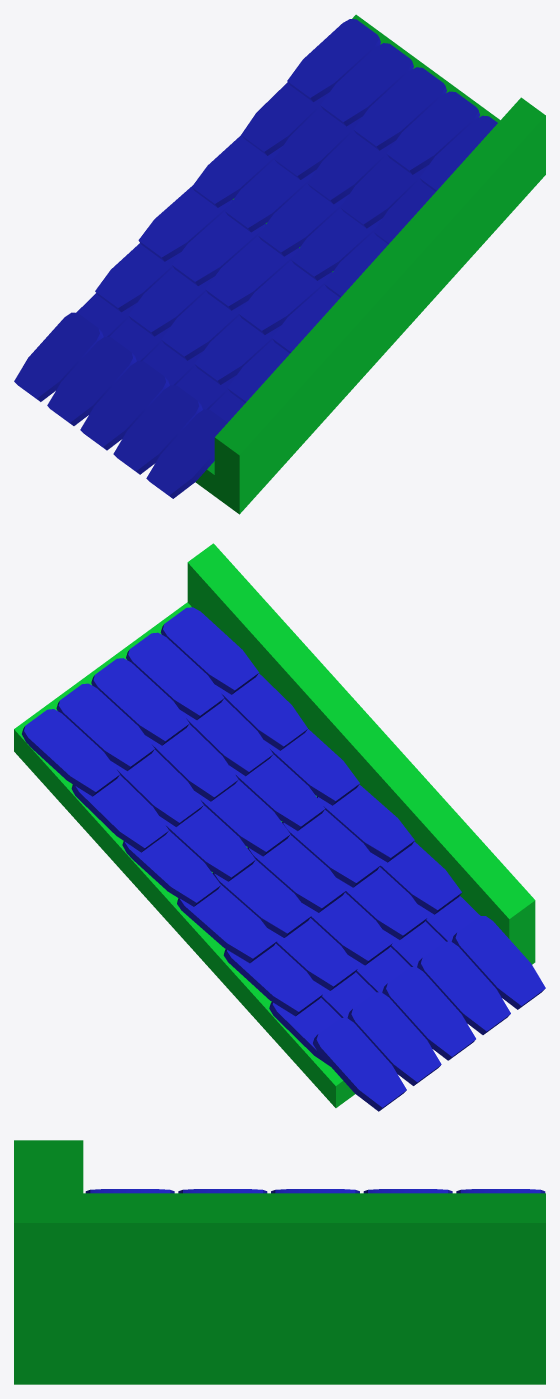
The model's file is FrontRoof_autosave_0.fbx.
3 views of the same model, one above another, from view 1: azimuth 30°, elevation 25°; view 2: azimuth 150°, elevation 25°; view 3: azimuth 270°, elevation 25° (orthographic). The views are drawn at different scales.
Visible parts, largest first — view 1: RoofFrontRepetition (×2); view 2: RoofFrontRepetition (×2); view 3: RoofFrontRepetition (×2).
Part boxes in pixels (x1,y1,x2,y2): RoofFrontRepetition (×2): (14, 14, 545, 514); RoofFrontRepetition (×2): (14, 543, 545, 1111); RoofFrontRepetition (×2): (14, 1140, 545, 1384).
Size of the model in its own units: 2.42 by 2.17 by 2.3.
